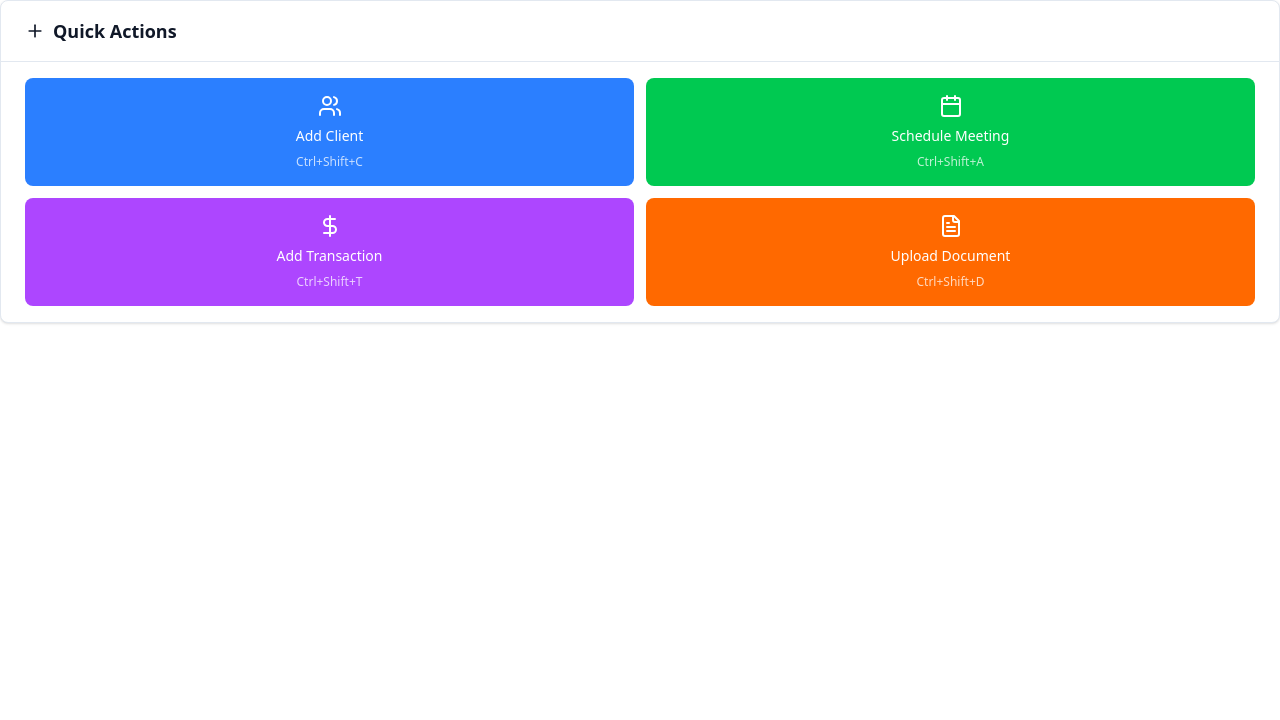
Scenario: QuickActions › Appointment Modal › opens appointment modal when button is clicked
Click the button "Schedule Meeting Ctrl+Shift+A" at (950, 132), box [646,78,1255,186]
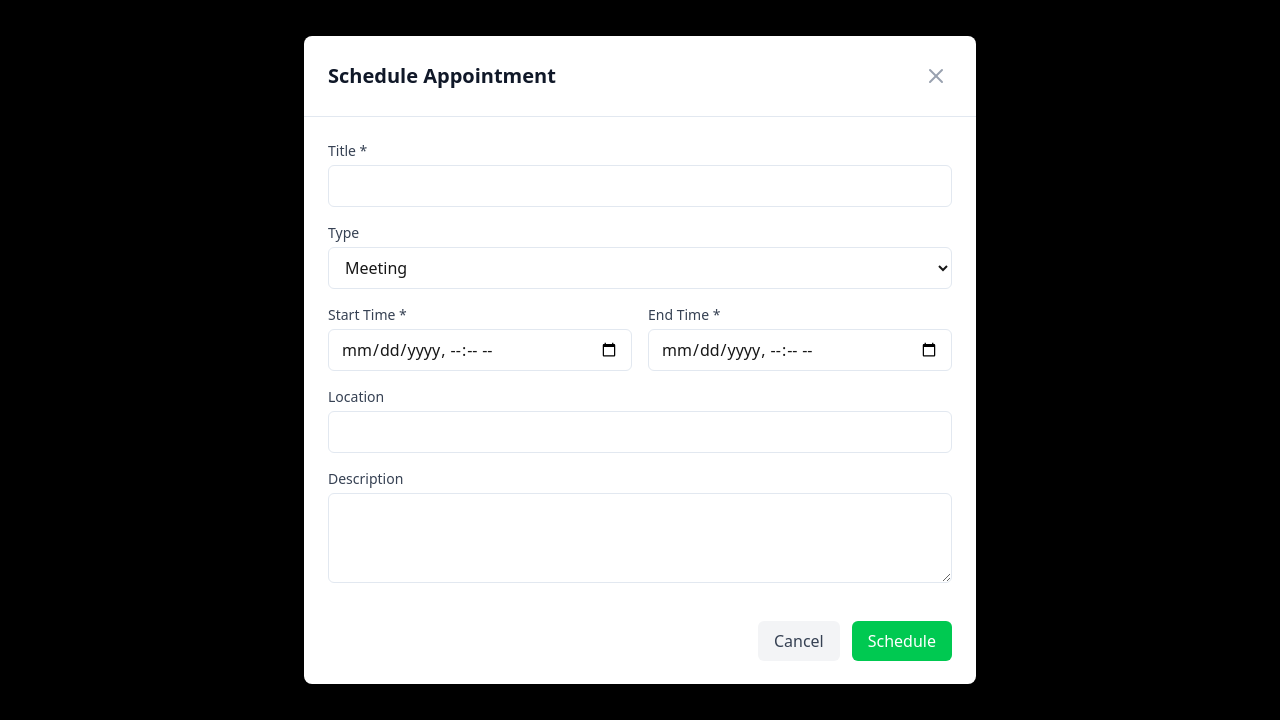
Check: the dialog "Schedule Appointment" is shown, box [304,36,976,684]
Check: the field labelled "Title *" is shown, box [328,165,952,207]
Check: the field labelled "Start Time *" is shown, box [328,329,632,371]
